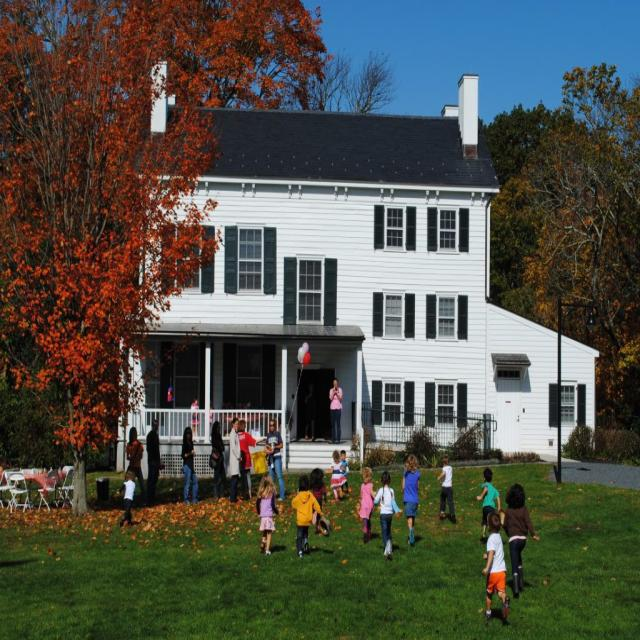body: (501, 480, 541, 602), (480, 509, 512, 624), (290, 471, 324, 562), (236, 418, 268, 500), (372, 469, 400, 560), (474, 465, 504, 542), (255, 472, 281, 557), (399, 451, 422, 547), (262, 418, 286, 502), (125, 425, 147, 505), (436, 452, 458, 526), (356, 464, 376, 545), (144, 418, 162, 506), (181, 425, 200, 506), (208, 420, 227, 500), (115, 467, 137, 531), (323, 448, 346, 504), (309, 467, 328, 533), (228, 416, 242, 504), (326, 376, 343, 446), (302, 381, 318, 443), (338, 449, 352, 496), (190, 396, 201, 438), (203, 400, 214, 441)
